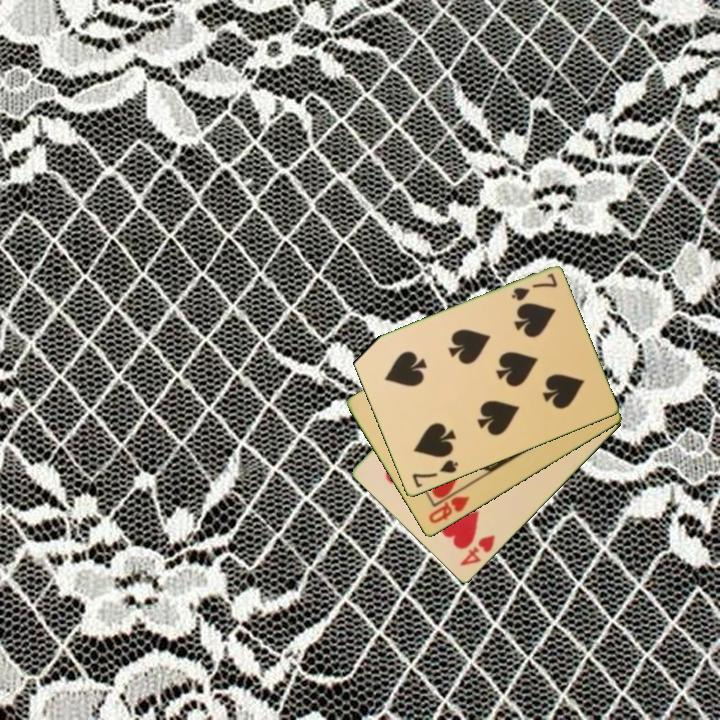4h: (456, 531, 498, 570)
7s: (408, 456, 461, 491), (508, 270, 560, 304)
Qh: (425, 493, 473, 527)
